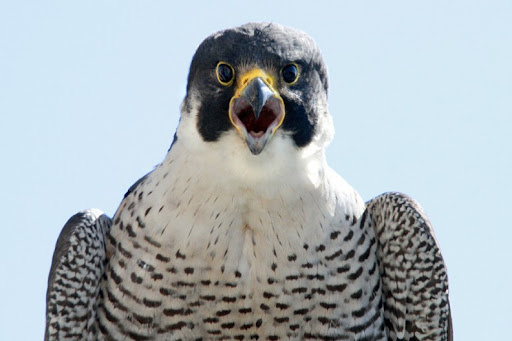Pengoyak Daging: (230, 75, 284, 159)
